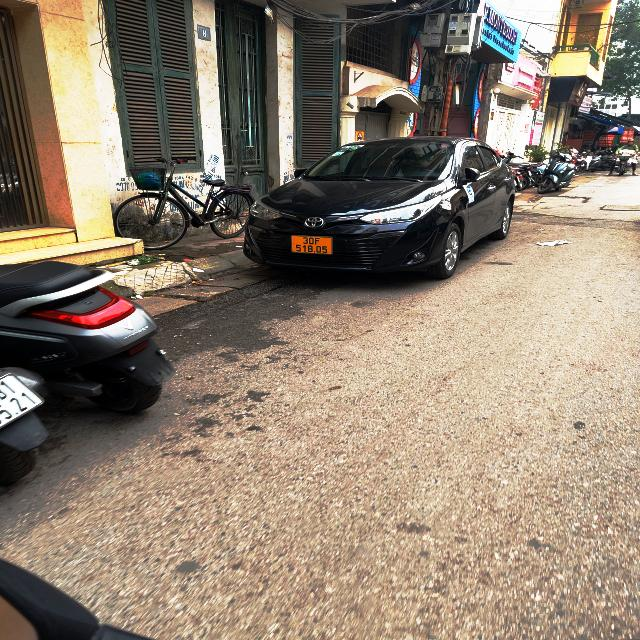license_plate: (292, 236, 334, 255)
